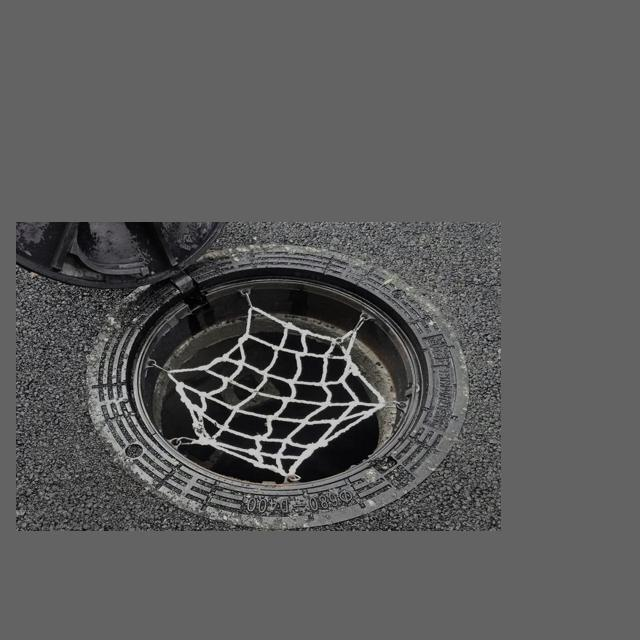lose: (85, 246, 468, 522)
